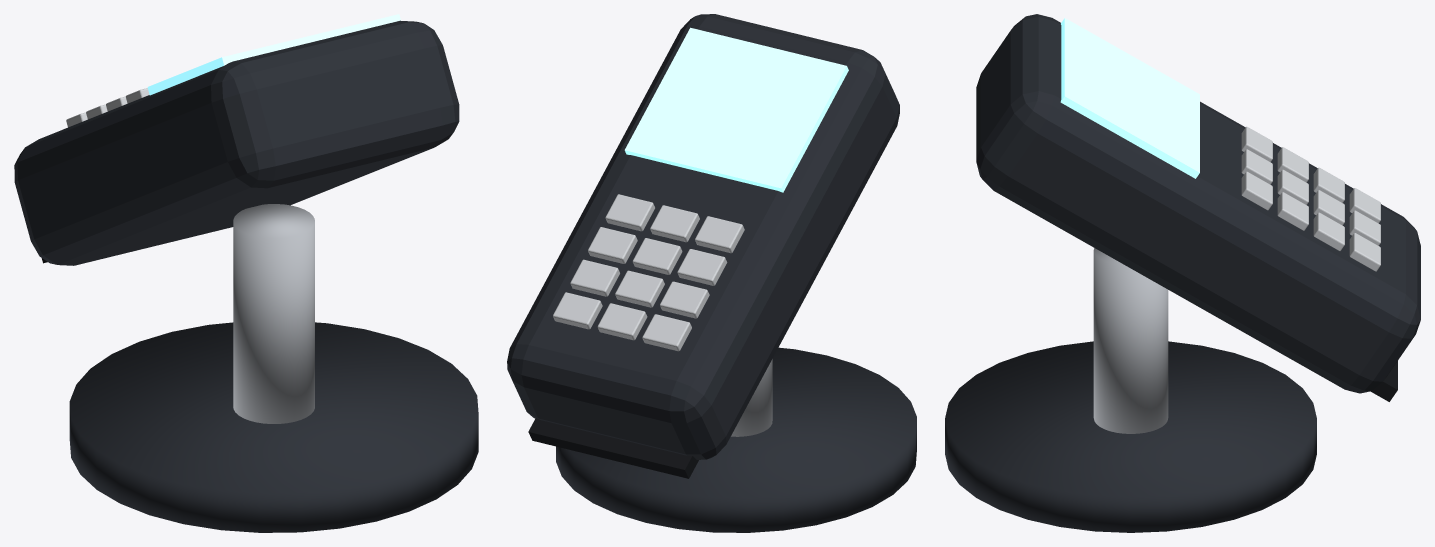
File: pos-terminal.glb
The picture shows the model from 3 angles, left to right: view 1: azimuth 30°, elevation 25°; view 2: azimuth 150°, elevation 25°; view 3: azimuth 270°, elevation 25°; orthographic projection. The views are drawn at different scales.
Parts seen in each view (by area): view 1: body; view 2: body; view 3: body.
Part boxes in pixels (x1,y1,x2,y2): body: (14,14,478,532); body: (507,14,916,532); body: (945,14,1420,532).
Size of the model in its own units: 0.14 by 0.1663 by 0.1791.
